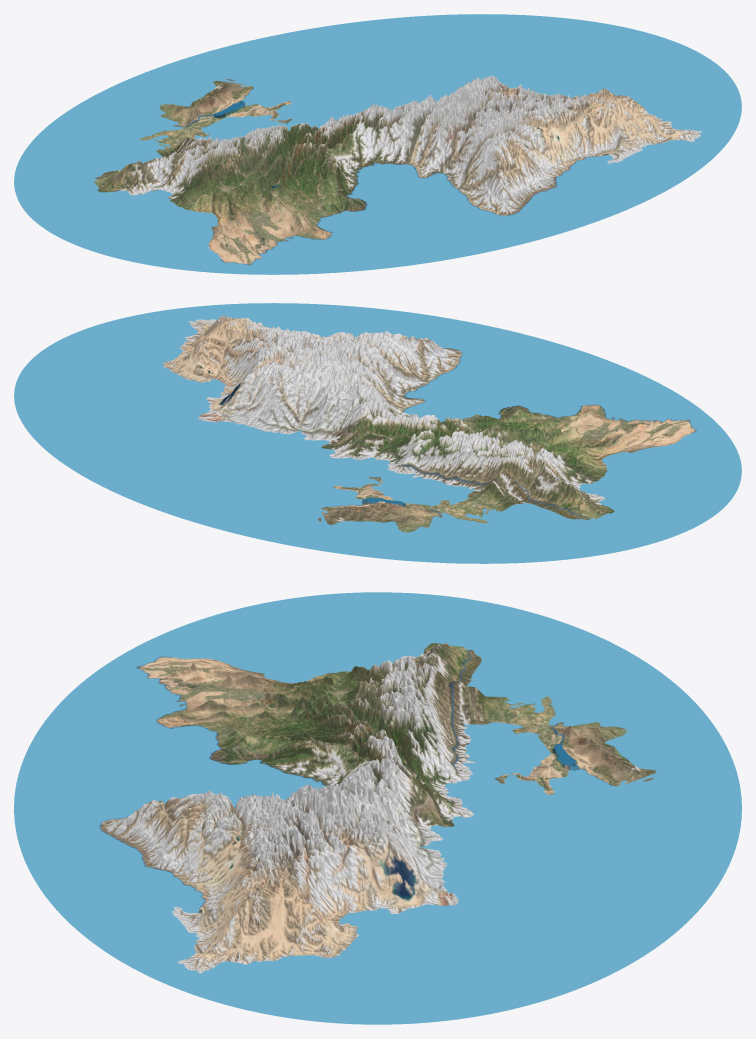
Rendered from TJK-previa-terrain.glb.
3 renders of one model, top to bottom at view 1: azimuth 30°, elevation 25°; view 2: azimuth 150°, elevation 25°; view 3: azimuth 270°, elevation 25°, orthographic. The views are drawn at different scales.
Visible parts, largest first — view 1: Tajiquistão; view 2: Tajiquistão; view 3: Tajiquistão.
Boxes of the visible parts, bbox=[...] form: Tajiquistão: bbox=[14, 14, 741, 274]; Tajiquistão: bbox=[14, 303, 741, 563]; Tajiquistão: bbox=[14, 592, 741, 1024].
Size of the model in its own units: 2.32 by 0.1726 by 1.65.
Materials: 1 (1 with a texture image).
